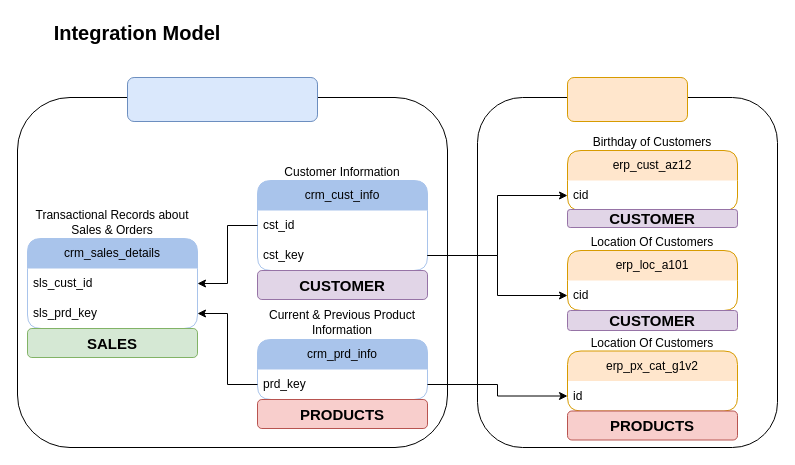
This 795x465 diagram has some shape labels left out. Here are the shapes that lost their labels. From the top down, the centre of each, then its label:
point 222,99: CRM
point 627,99: ERP
